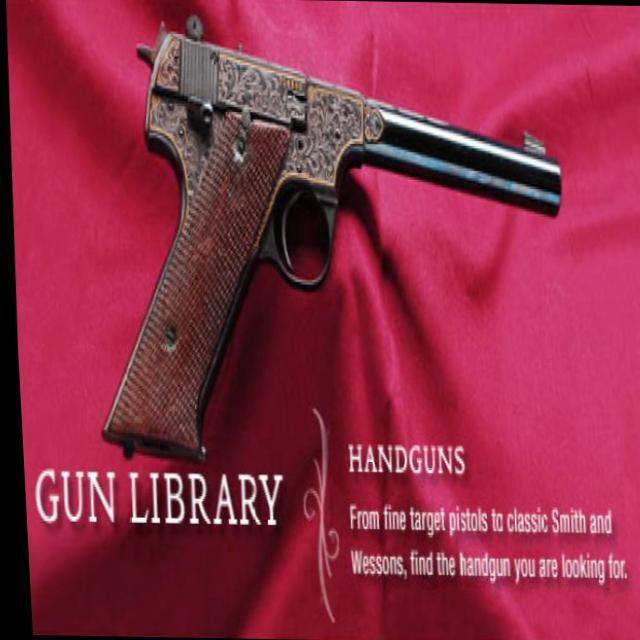weapon: (78, 9, 574, 470)
